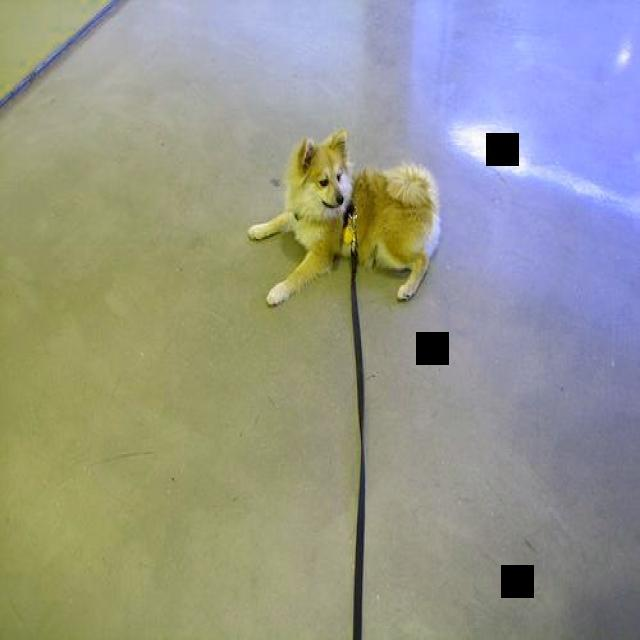adult_dog: (244, 128, 442, 311)
